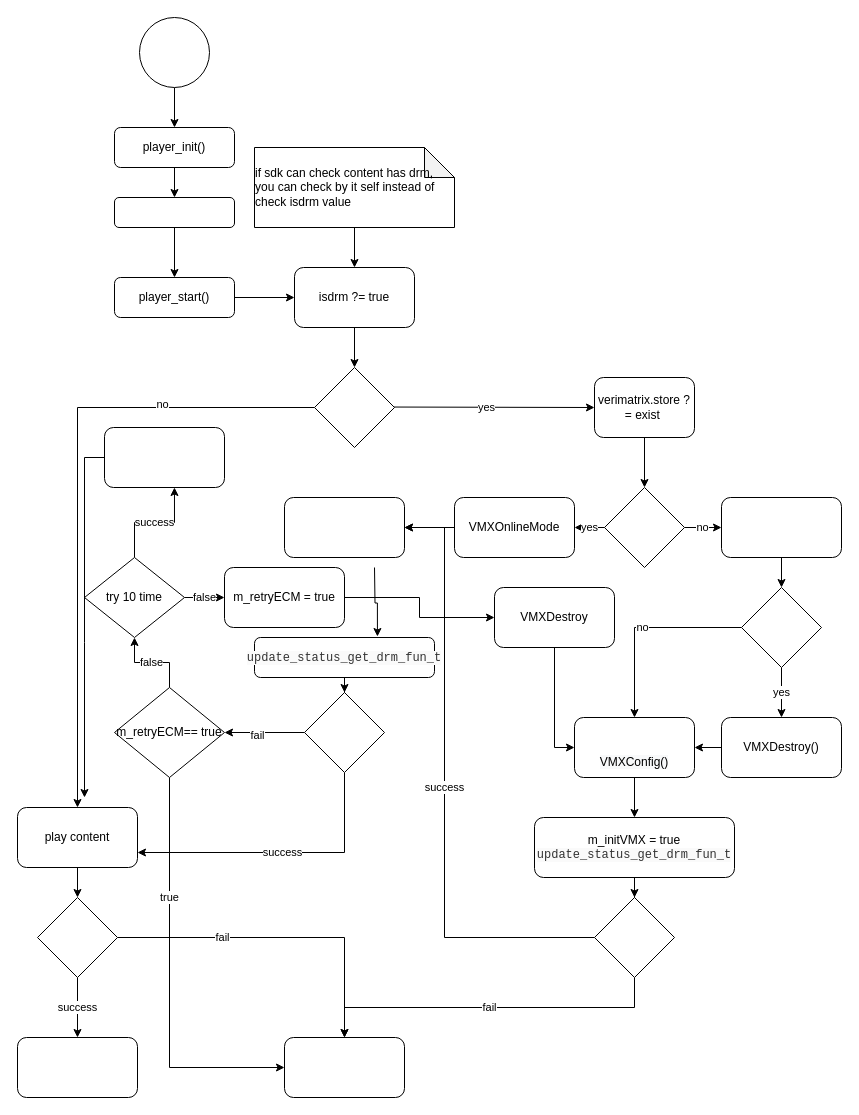
The diagram is 859 pixels wide and 1115 high, and some of its shapes have lost their labels. The shapes that lost their labels are listed below. From the top down, each one's centre as x and y in pixels, then its label:
At (x=174, y=52): "bootup".
At (x=174, y=212): "m_initVMX = false m_retryECM = false".
At (x=164, y=457): "m_retryECM = false".
At (x=344, y=527): "ECM key()".
At (x=781, y=527): "m_initVMX ?= true".
At (x=77, y=1067): "return success".
At (x=344, y=1067): "return fail".
